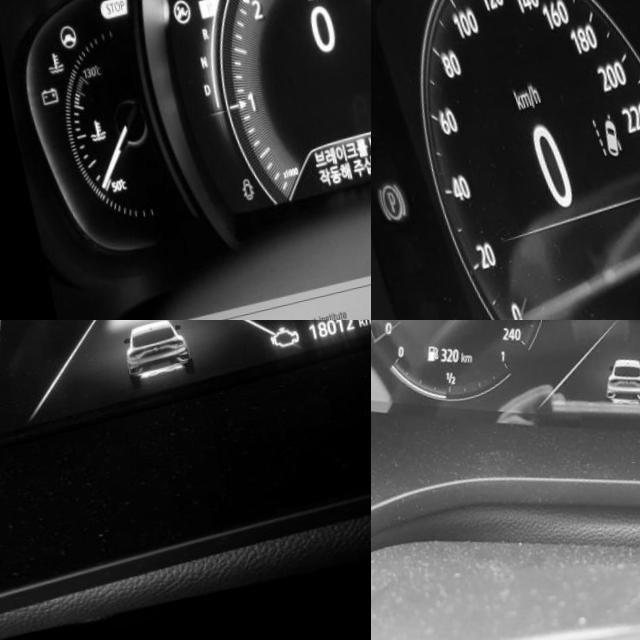Doors: (224, 184, 240, 210)
Engine cooling system: (34, 51, 55, 77)
